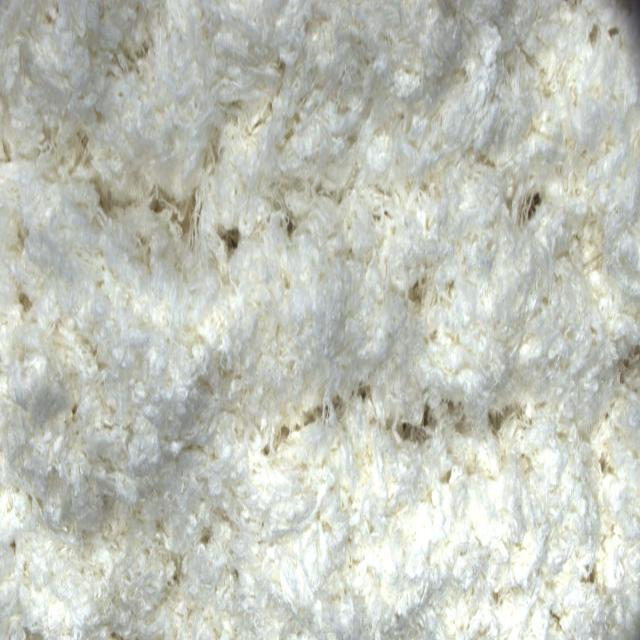dust: (219, 226, 245, 268), (405, 414, 440, 442), (525, 189, 547, 226)
